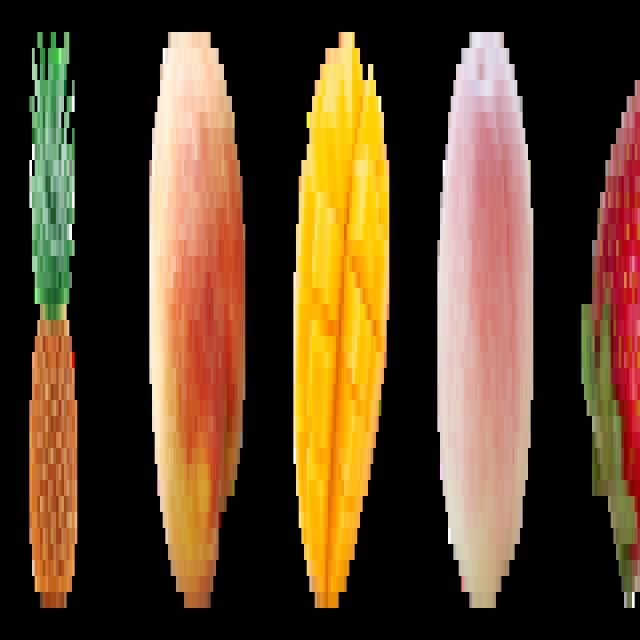mango: (292, 26, 392, 626)
peach: (434, 16, 537, 616), (146, 16, 247, 622)
pineapples: (26, 16, 82, 617)
